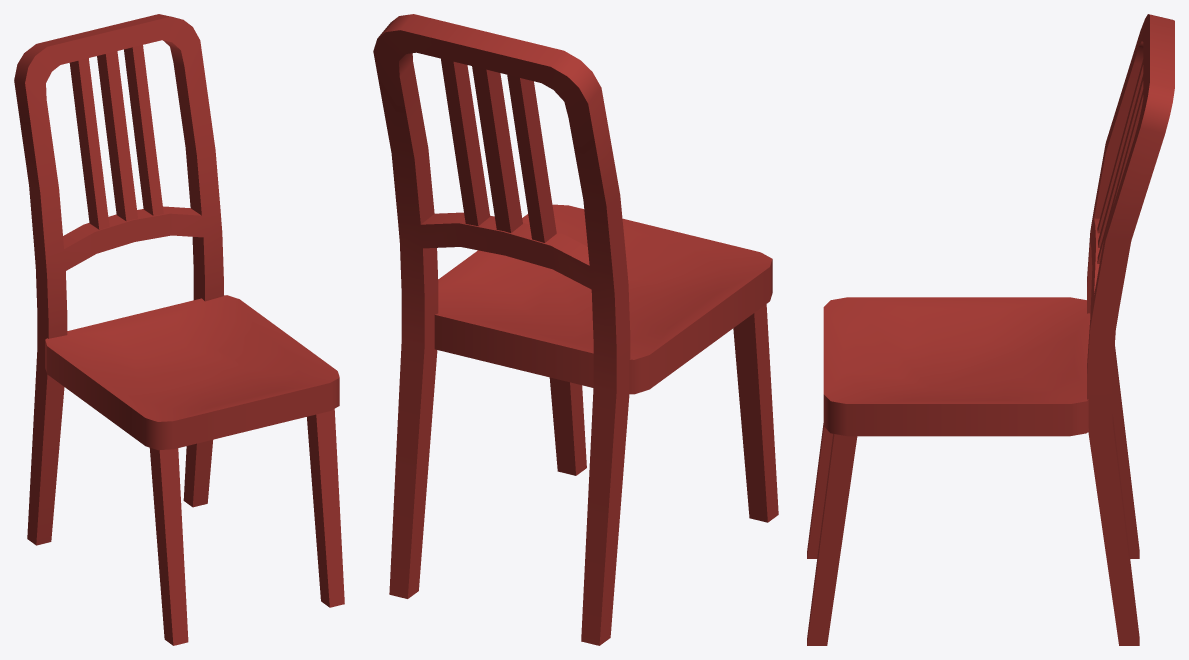
Rendered from Chair_02.fbx.
3 renders of one model, left to right at view 1: azimuth 30°, elevation 25°; view 2: azimuth 150°, elevation 25°; view 3: azimuth 270°, elevation 25°, orthographic. The views are drawn at different scales.
Parts seen in each view (by area): view 1: Chair_02; view 2: Chair_02; view 3: Chair_02.
Part boxes in pixels (x1,y1,x2,y2): Chair_02: (14, 14, 344, 645); Chair_02: (373, 14, 778, 645); Chair_02: (807, 14, 1174, 645).
Size of the model in its own units: 0.4322 by 1.04 by 0.6289.
